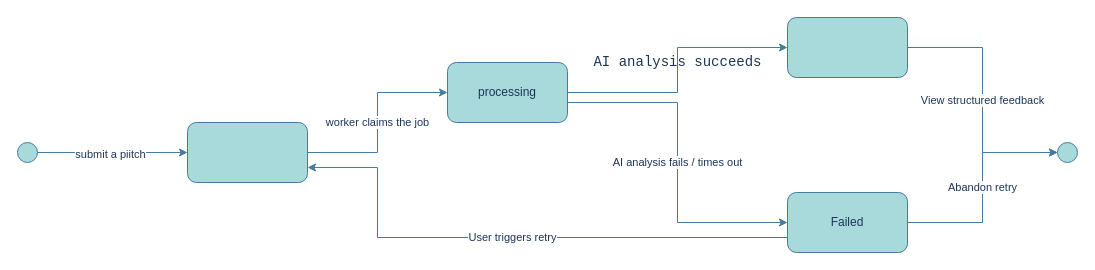
Image size: 1095x270. Some labels were removed from this diagram. The shapes that lost their labels are listed below. From the top down, each one's box as (x1, y1, x2, y2) in pixels, then its label:
(786, 16, 908, 78): completed
(186, 122, 308, 182): create a queued job
